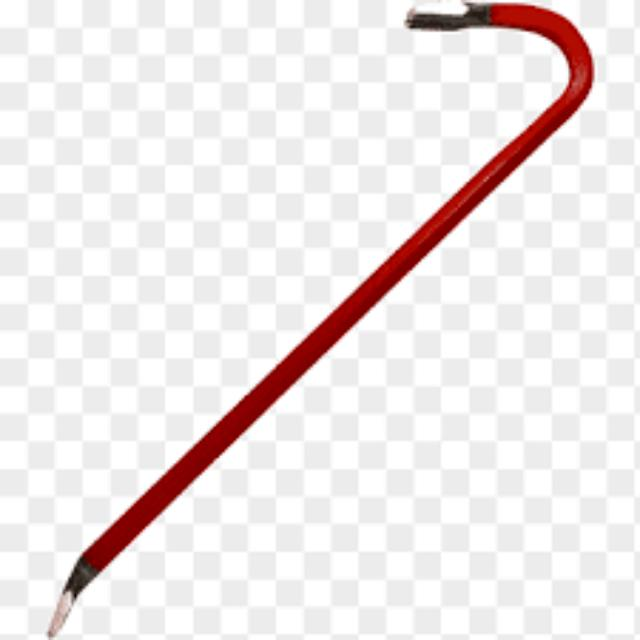crow bar: (41, 5, 604, 640)
